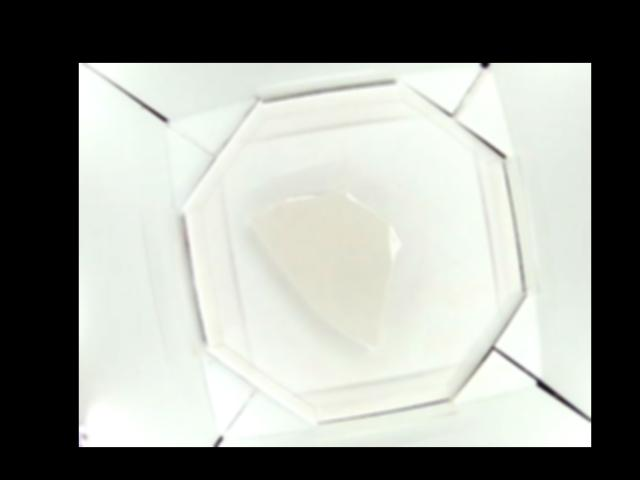China: (260, 186, 402, 354)
